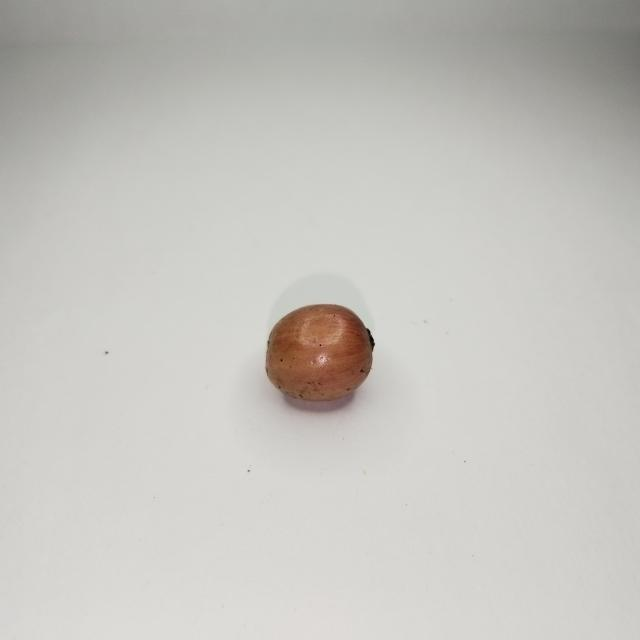Sano: (266, 304, 374, 402)
